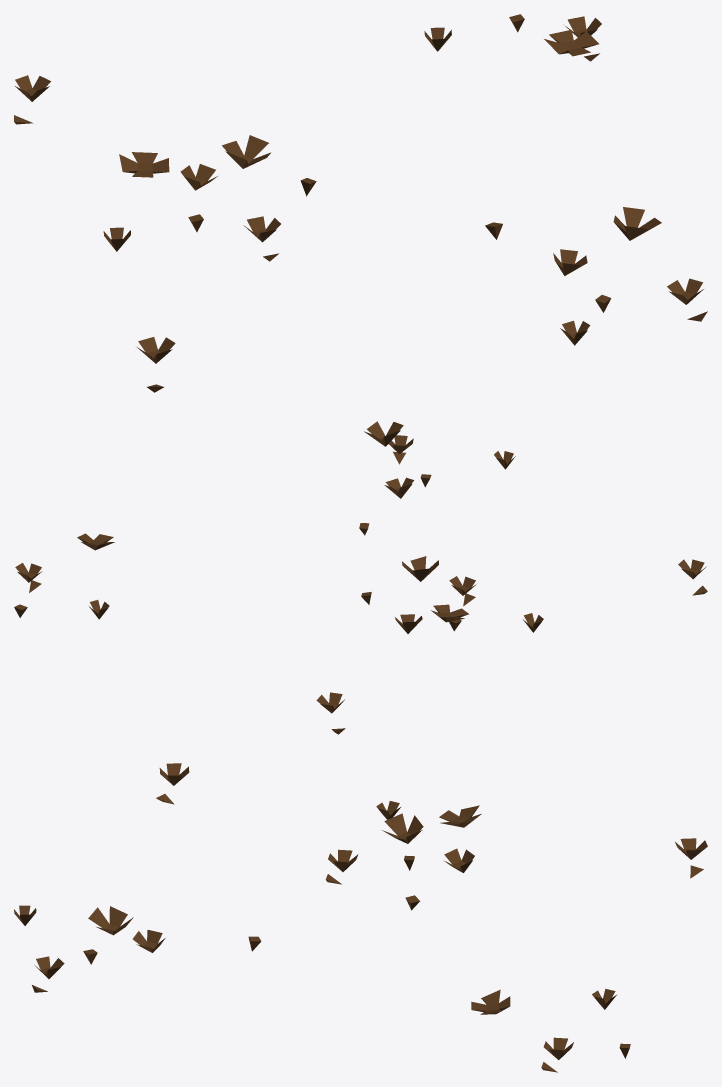
Rendered from SM_Flower_Daisy_Floating_Group_B.fbx.
The picture shows the model from 3 angles, top to bottom: view 1: azimuth 30°, elevation 25°; view 2: azimuth 150°, elevation 25°; view 3: azimuth 270°, elevation 25°; orthographic projection. The views are drawn at different scales.
Visible parts, largest first — view 1: flower-daisy-floating-group-b; view 2: flower-daisy-floating-group-b; view 3: flower-daisy-floating-group-b.
Part boxes in pixels (box(x1,y1,x2,y2)): flower-daisy-floating-group-b: box(14, 14, 707, 392); flower-daisy-floating-group-b: box(14, 421, 707, 734); flower-daisy-floating-group-b: box(14, 763, 707, 1072).
Size of the model in its own units: 1.91 by 0.2378 by 1.95.
